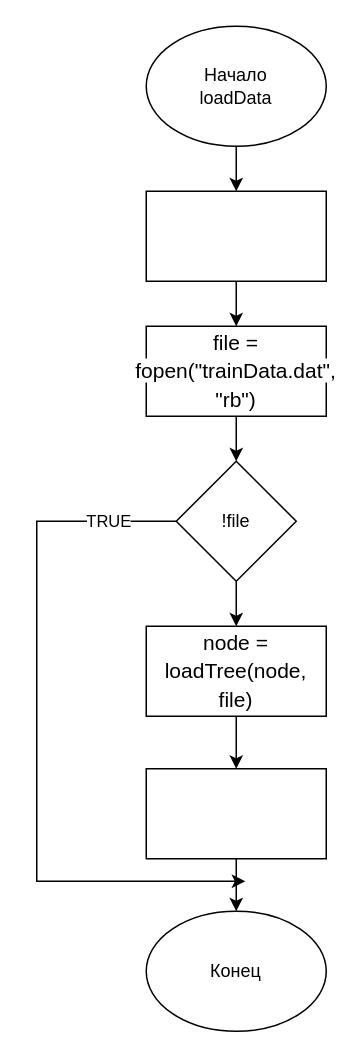
The diagram is 363 pixels wide and 1058 high, and some of its shapes have lost their labels. The shapes that lost their labels are listed below. From the top down, each one's box as (x1, y1, x2, y2) in pixels, then its label:
(145, 190, 326, 281): freeTree(node)
(145, 767, 326, 859): fclose(file)
